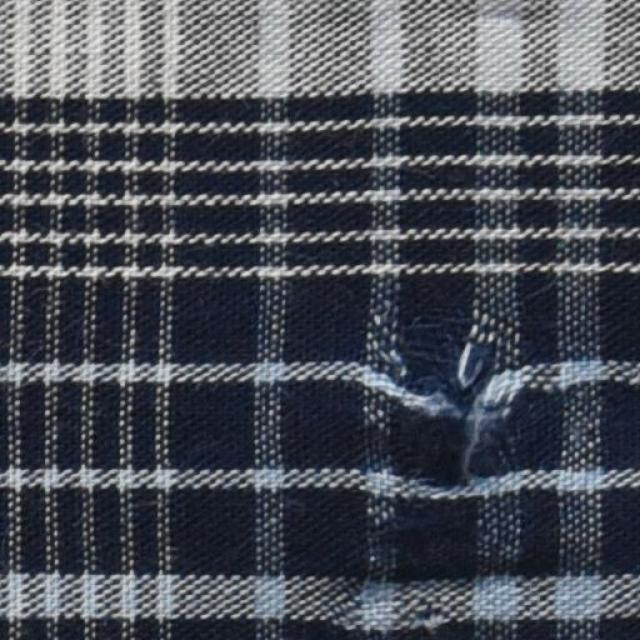Snag: (366, 318, 537, 499)
